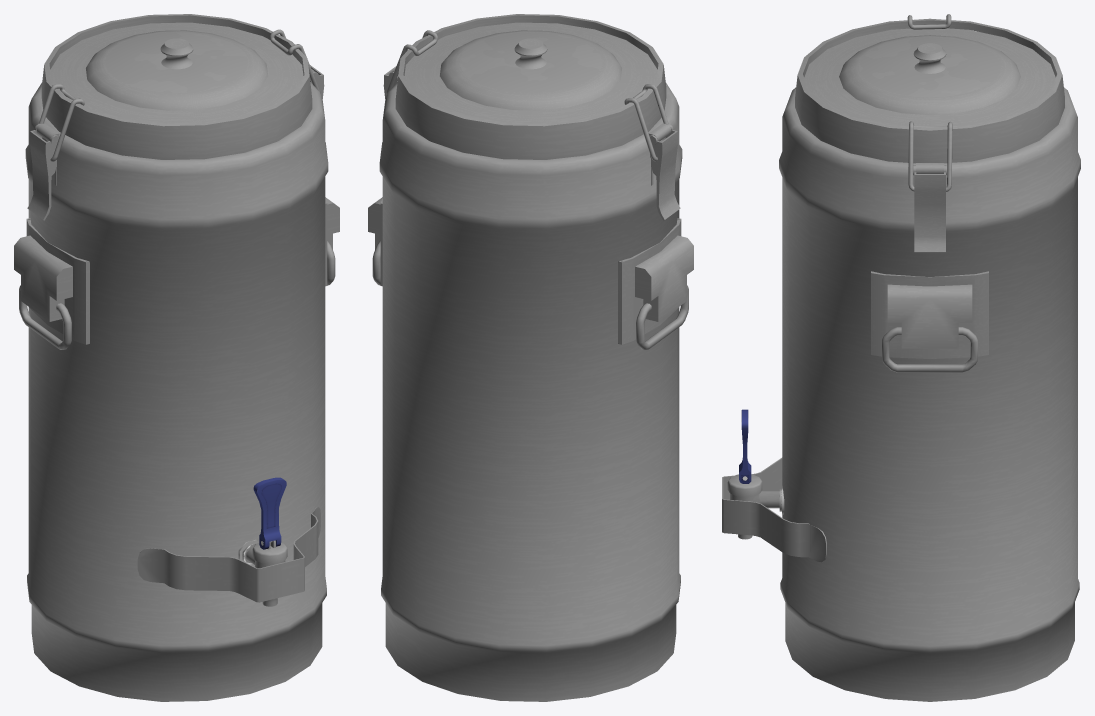
Rendered from 20L_stainlesswaterbottle.fbx.
3 renders of one model, left to right at view 1: azimuth 30°, elevation 25°; view 2: azimuth 150°, elevation 25°; view 3: azimuth 270°, elevation 25°, orthographic.
Visible parts, largest first — view 1: 20L_waterbottle, 20L_cover, coverlock_R, cocklever, handle_R, coverlock1_R; view 2: 20L_waterbottle, 20L_cover, coverlock_R, handle_R, coverlock1_R; view 3: 20L_waterbottle, 20L_cover, coverlock_L, handle_L, coverlock1_L, cocklever.
Part boxes in pixels (<box>): 20L_waterbottle: <box>14,14,339,701</box>; 20L_cover: <box>50,22,303,123</box>; coverlock_R: <box>27,123,59,220</box>; cocklever: <box>253,477,286,549</box>; handle_R: <box>19,285,71,349</box>; coverlock1_R: <box>39,84,84,161</box>; 20L_waterbottle: <box>368,14,693,701</box>; 20L_cover: <box>404,22,657,123</box>; coverlock_R: <box>649,123,680,220</box>; handle_R: <box>636,285,688,349</box>; coverlock1_R: <box>624,84,668,161</box>; 20L_waterbottle: <box>722,18,1080,701</box>; 20L_cover: <box>804,28,1055,126</box>; coverlock_L: <box>913,165,946,252</box>; handle_L: <box>882,327,977,372</box>; coverlock1_L: <box>908,121,952,191</box>; cocklever: <box>739,409,751,483</box>.
Bounding box in the file's own units: 36.43 × 73.32 × 40.28.
Materials: 3 (3 with a texture image).
